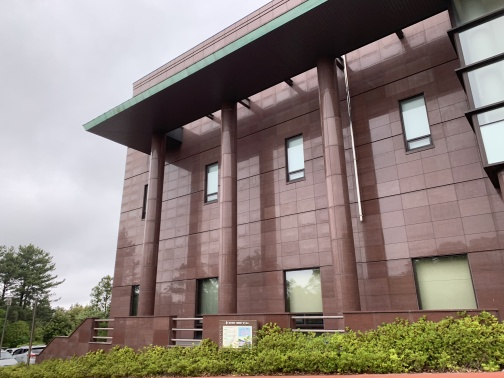Museum: (79, 25, 504, 346)
